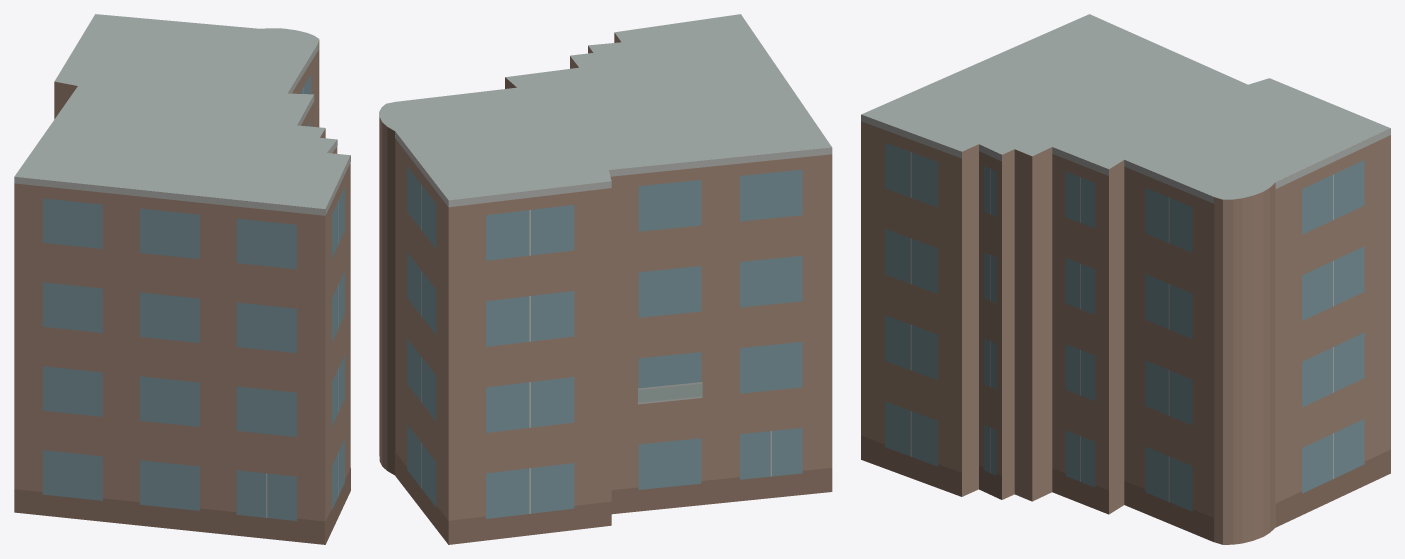
The model's file is survey-upis-32726154.glb.
3 renders of one model, left to right at view 1: azimuth 30°, elevation 25°; view 2: azimuth 150°, elevation 25°; view 3: azimuth 270°, elevation 25°, orthographic. The views are drawn at different scales.
Visible parts, largest first — view 1: survey-upis-32726154.tmp; view 2: survey-upis-32726154.tmp; view 3: survey-upis-32726154.tmp.
Boxes of the visible parts, left/top/right/bottom form: survey-upis-32726154.tmp: left=14, top=14, right=350, bottom=544; survey-upis-32726154.tmp: left=379, top=14, right=832, bottom=544; survey-upis-32726154.tmp: left=861, top=14, right=1390, bottom=544.
Size of the model in its own units: 14.31 by 12.4 by 17.25.
